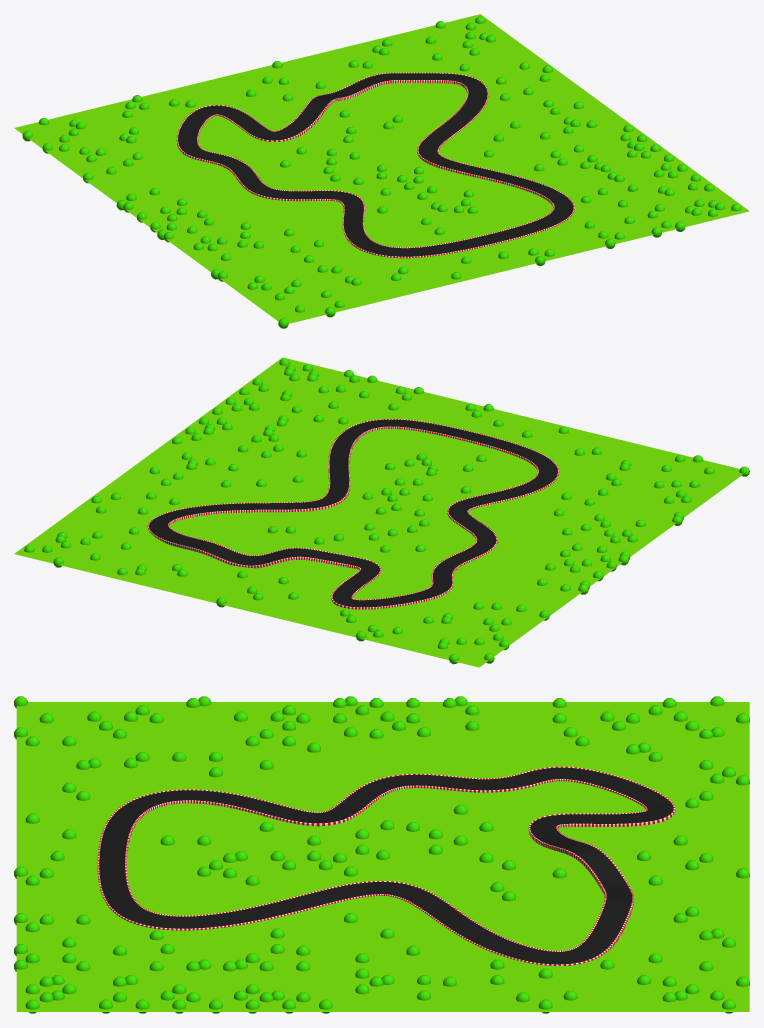
The model's file is Test Race Track 2.fbx.
3 views of the same model, one above another, from view 1: azimuth 30°, elevation 25°; view 2: azimuth 150°, elevation 25°; view 3: azimuth 270°, elevation 25° (orthographic). The views are drawn at different scales.
Parts seen in each view (by area): view 1: Plane.002, Plane.001; view 2: Plane.002, Plane.001; view 3: Plane.002, Plane.001.
Part boxes in pixels (x1,y1,x2,y2): Plane.002: [14, 14, 749, 323]; Plane.001: [176, 72, 574, 258]; Plane.002: [14, 357, 743, 667]; Plane.001: [147, 419, 559, 609]; Plane.002: [16, 702, 749, 1011]; Plane.001: [97, 766, 675, 965].
Bounding box in the file's own units: 20102 × 665 × 20060.
